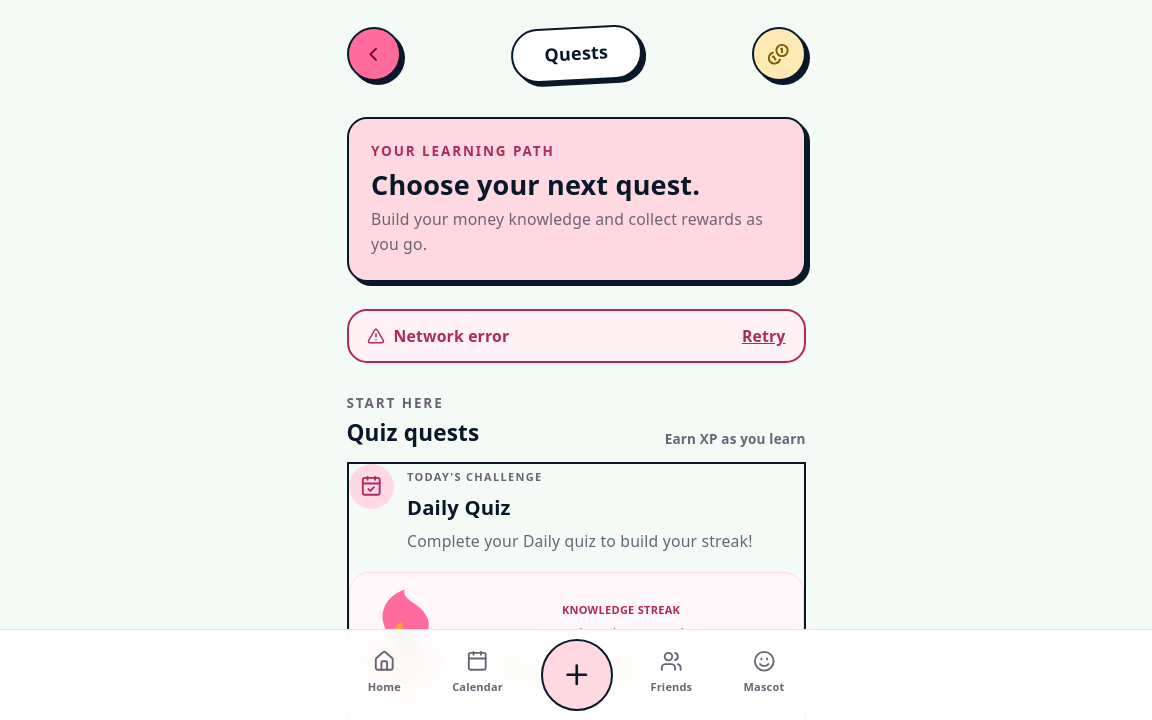
Test: QuestsPage › shows an error banner when loading fails,and retries on demand
The width and height of the screenshot is (1152, 720).
Check: the text "Network error" is shown, box [394,325,509,347]
Click the button "Retry": (764, 336) [742,325,786,347]
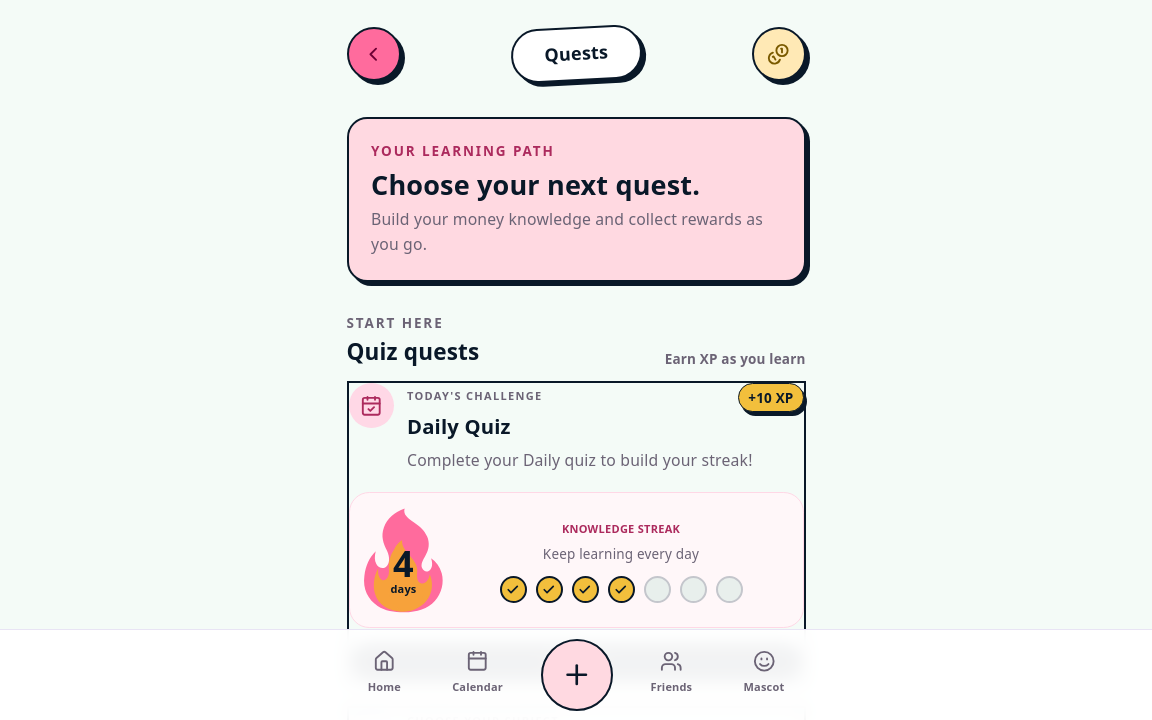
Check: the text "Complete your Daily quiz to build your streak!" is shown, box [407,448,804,474]
Check: the text "Network error" is gone
